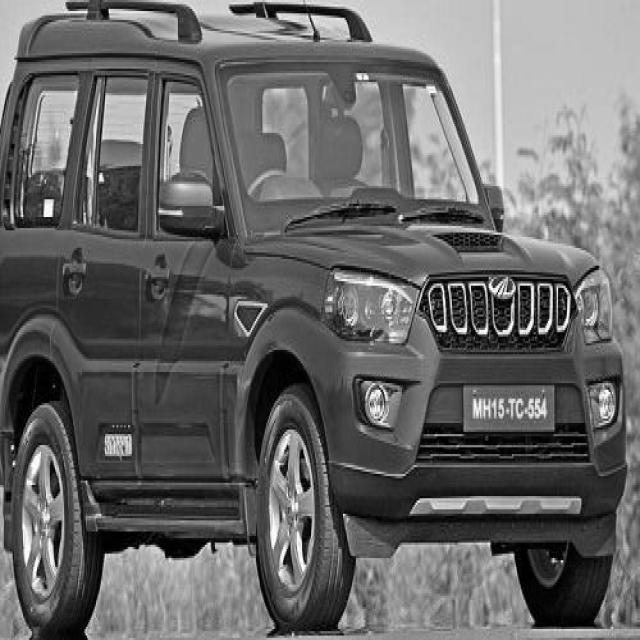car: (1, 4, 625, 638)
license-plate: (463, 387, 553, 432)
